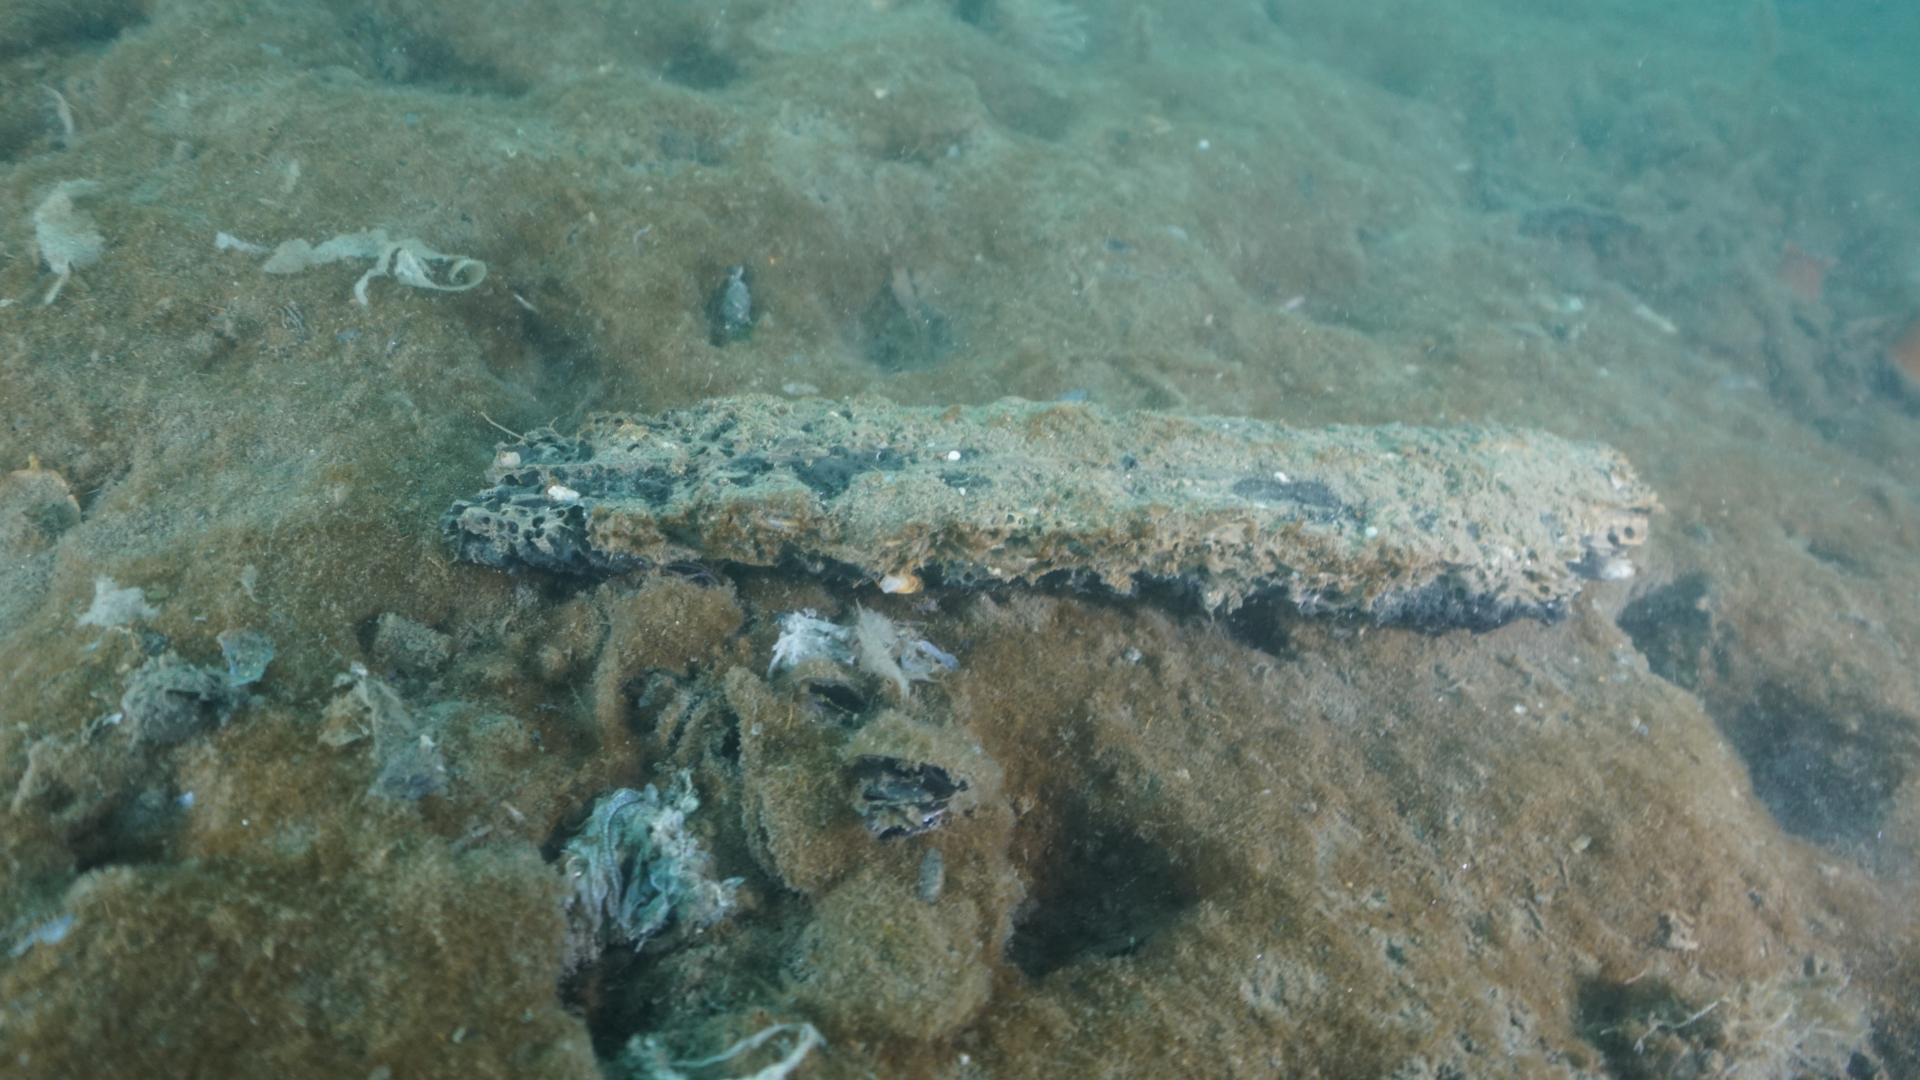wood: (433, 378, 1665, 637)
